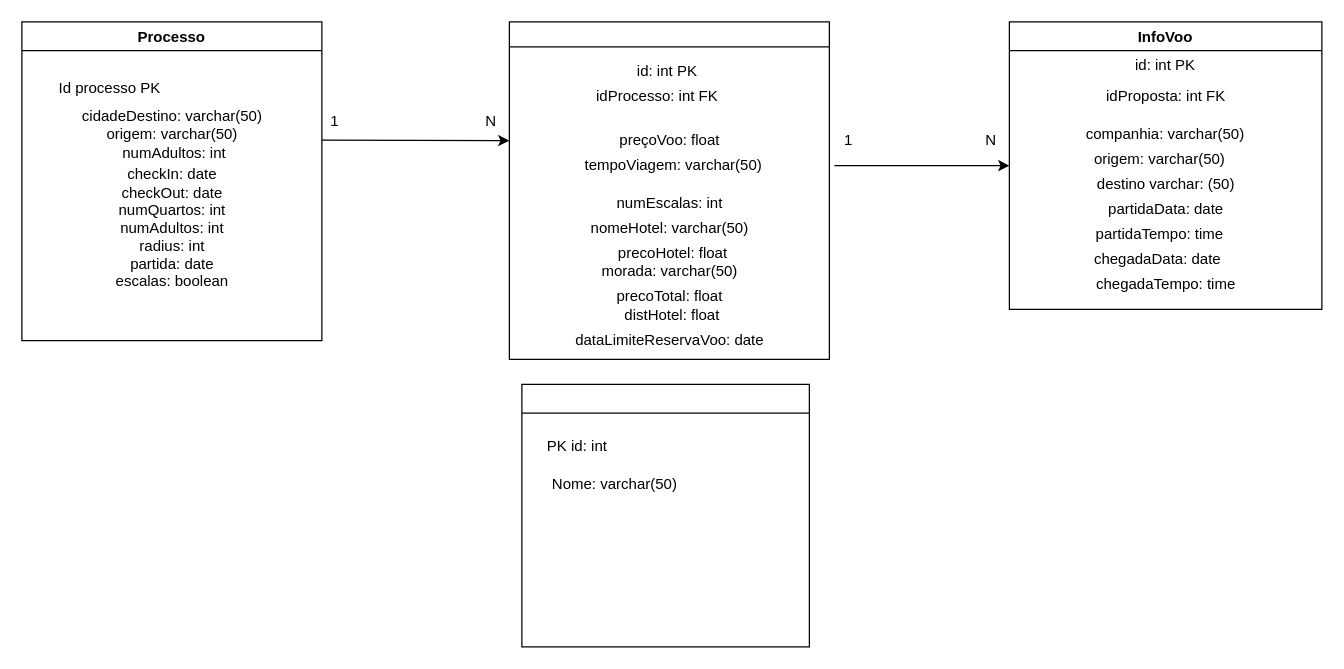
The diagram is 1344 pixels wide and 669 high, and some of its shapes have lost their labels. The shapes that lost their labels are listed below. From the top down, each one's box as (x1, y1, x2, y2) in pixels, then its label:
(508, 21, 829, 359): Proposta
(521, 383, 809, 647): Utilizadores
